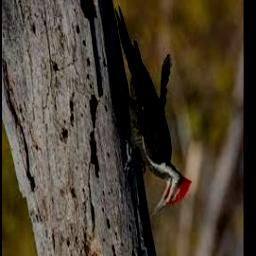Woodpecker: (114, 7, 192, 218)
